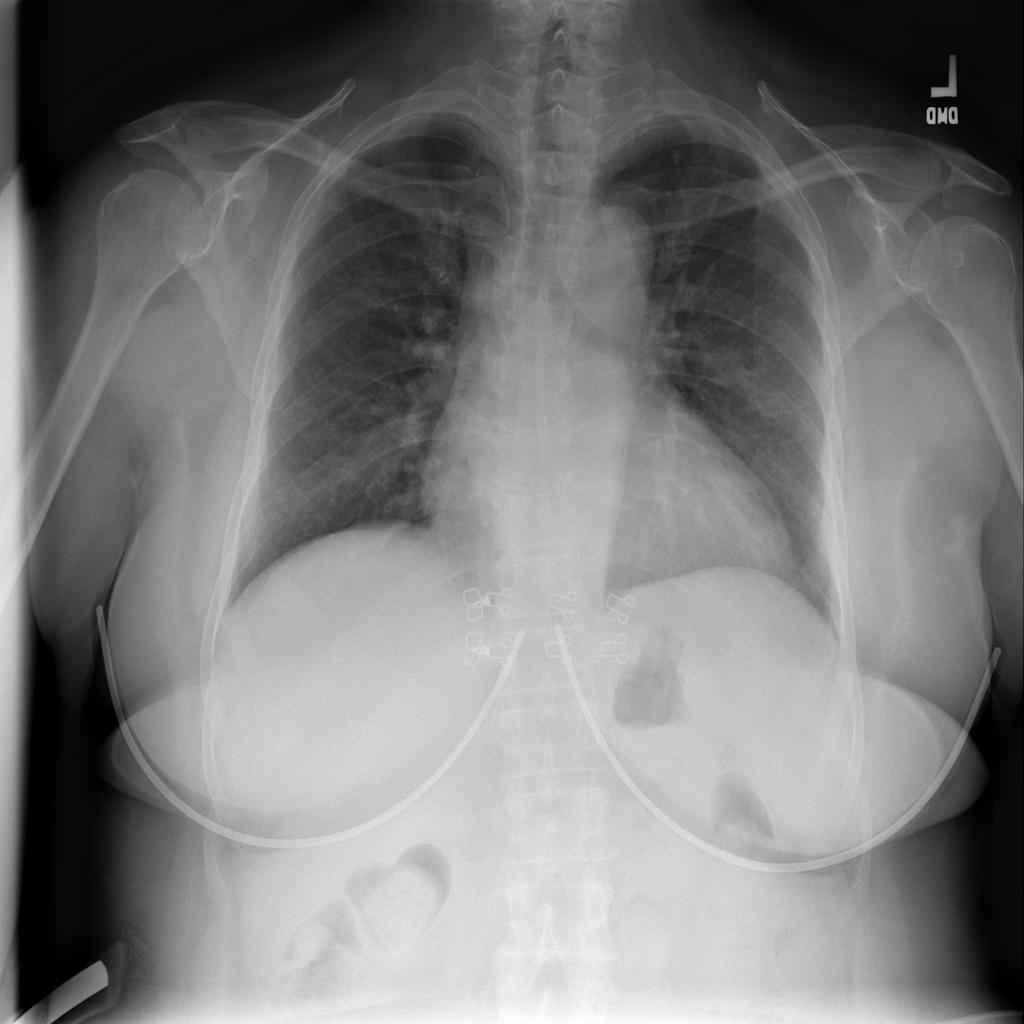nodule: (729, 502, 807, 579), (664, 143, 695, 170)
